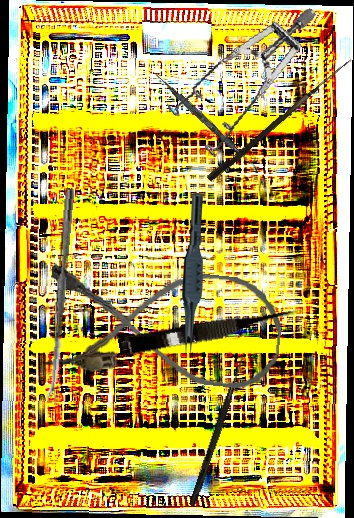Cannula: (41, 258, 287, 392)
Hook Surgical: (206, 52, 352, 185), (189, 353, 246, 507)
Micro Scissor: (117, 302, 301, 362)
Spatula Surgical: (151, 72, 264, 174)
Speculum: (153, 7, 341, 165)
Surgical Spoon: (45, 187, 75, 405)
Tissue Forceps: (179, 192, 205, 356)
